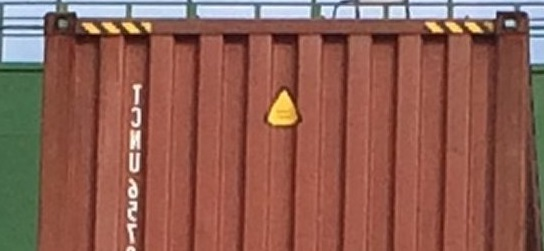container_no_door: (37, 10, 529, 251)
